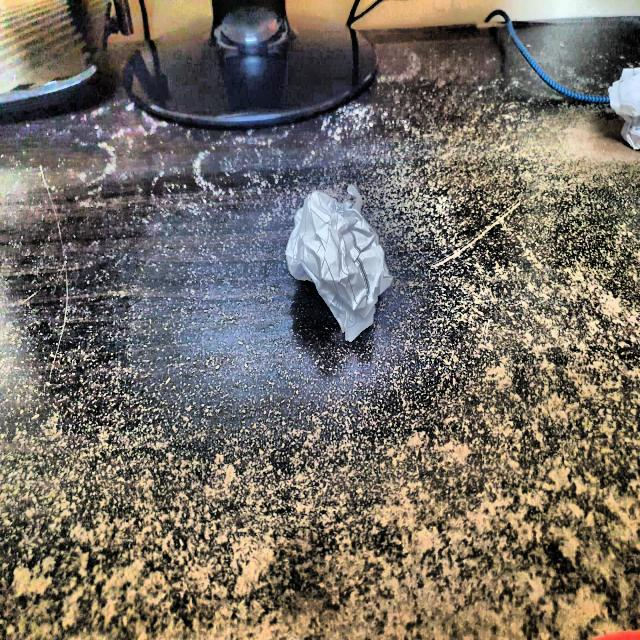Paper: (287, 183, 394, 327)
